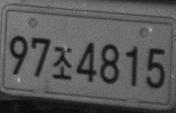1: (123, 45, 143, 86)
4: (76, 42, 97, 82)
5: (145, 48, 166, 89)
7: (30, 37, 51, 76)
8: (100, 43, 119, 84)
9: (8, 34, 28, 75)
조: (52, 46, 73, 80)
